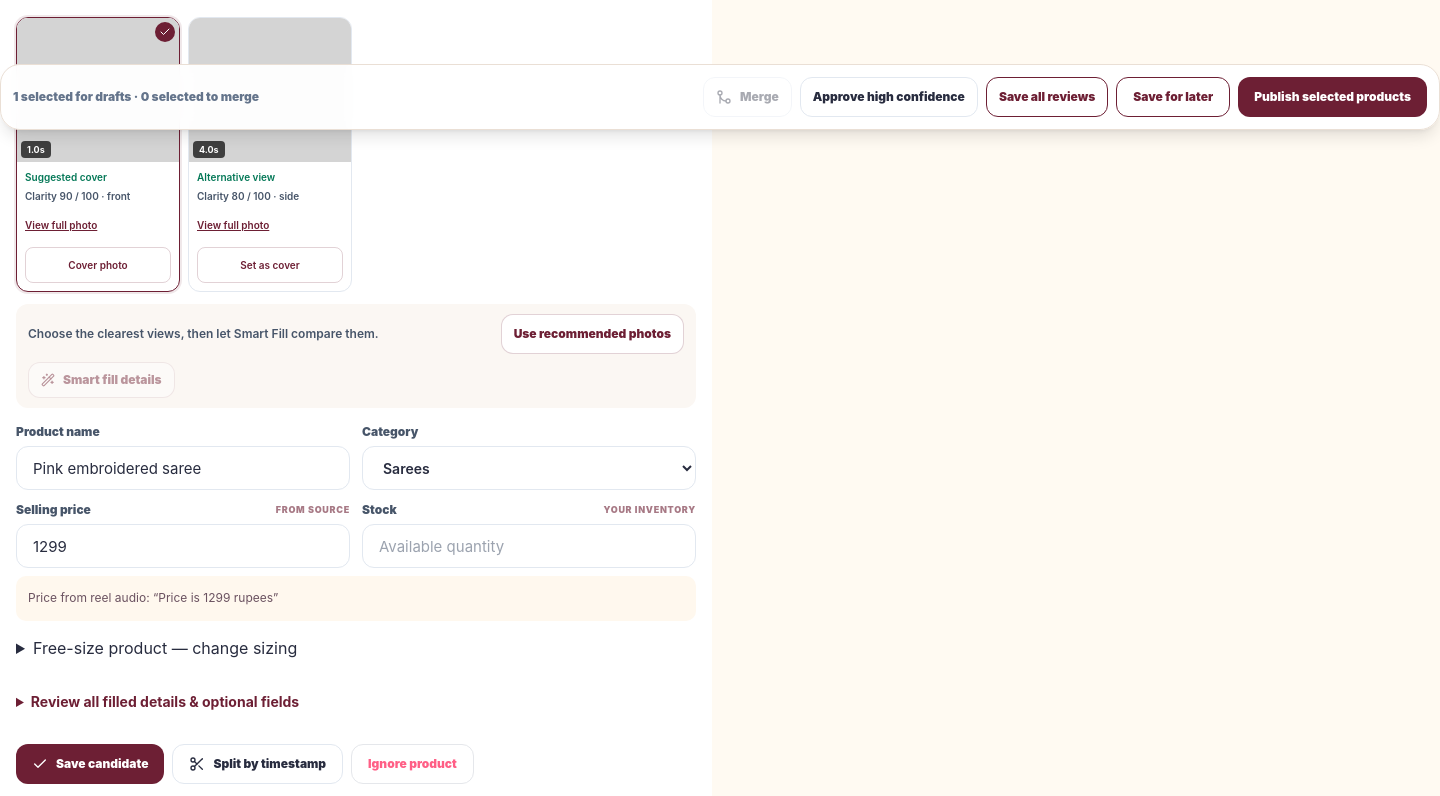
a stated price is filled and the reviewed reel publishes without visiting drafts
(page scrolled)
Expected: the field showing "Pink embroidered saree" is shown, 16,446 -> 350,490
Expected: the number field labelled "Selling price From source" holds "1299", 16,524 -> 350,568
In the number field labelled "Stock Your inventory": [529, 546] box 362,524 -> 696,568, type "4"
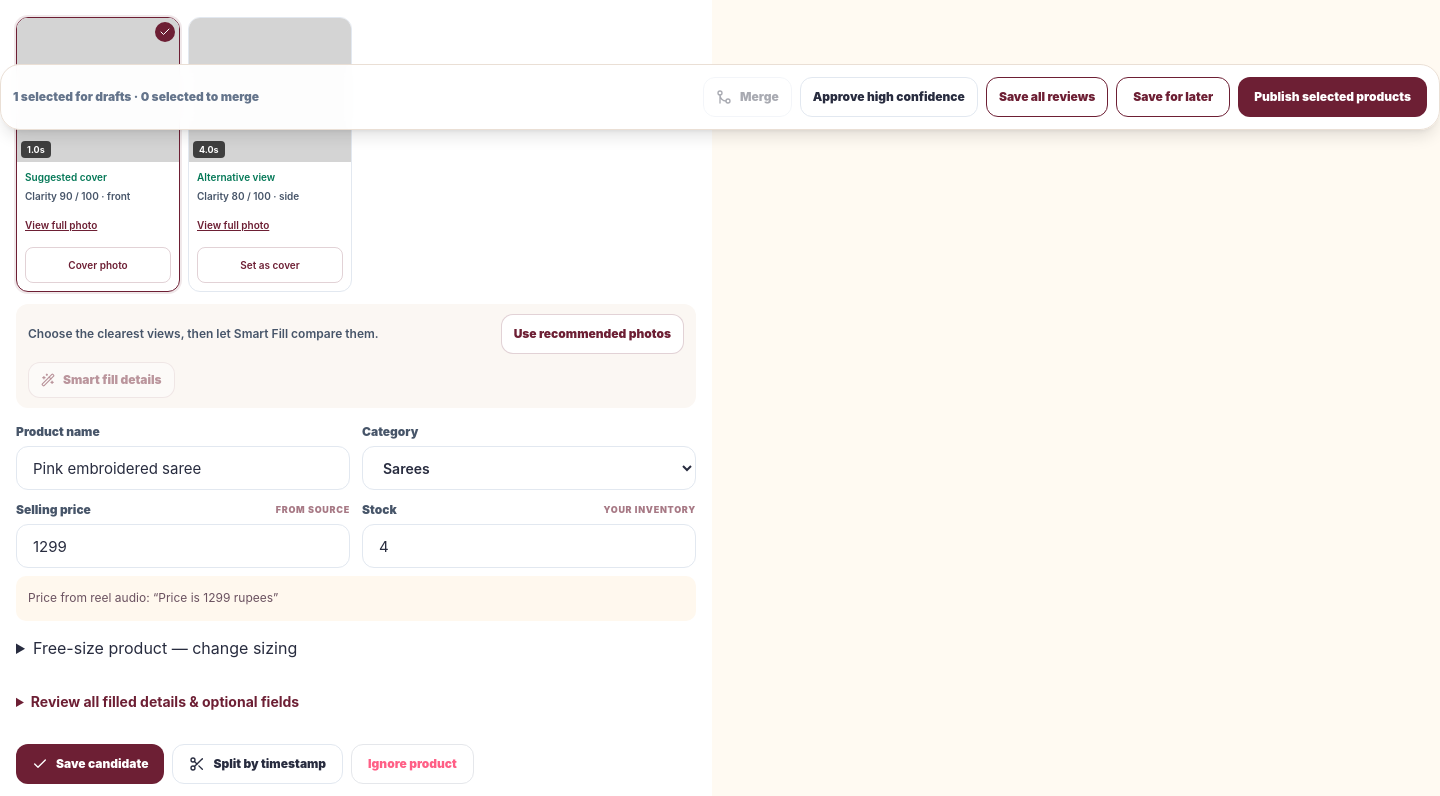
Click the button "Publish selected products": [1333, 97] box 1238,77 -> 1427,117
(page scrolled)
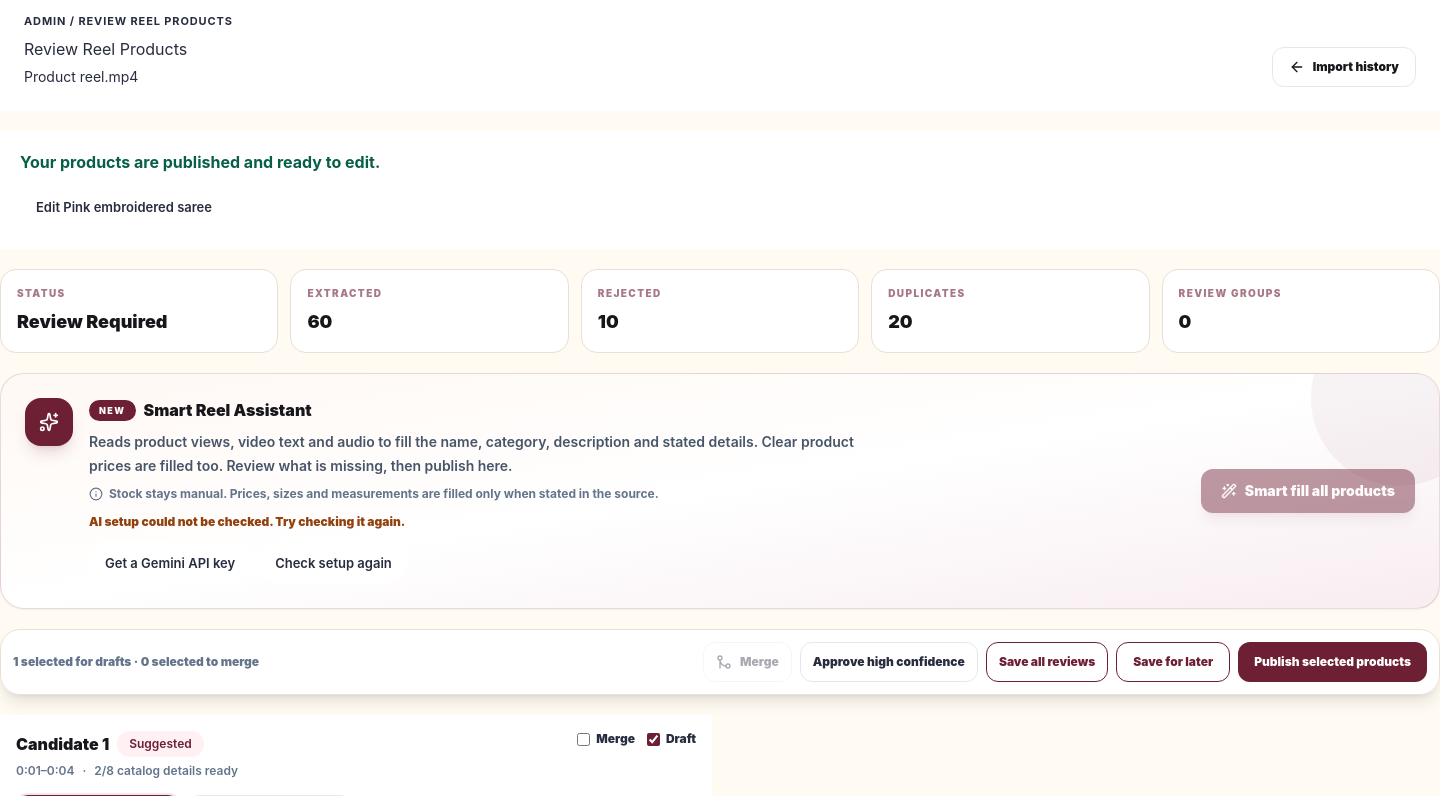
Expected: the text "Your products are published and ready to edit." is shown, 20,152 -> 380,172
